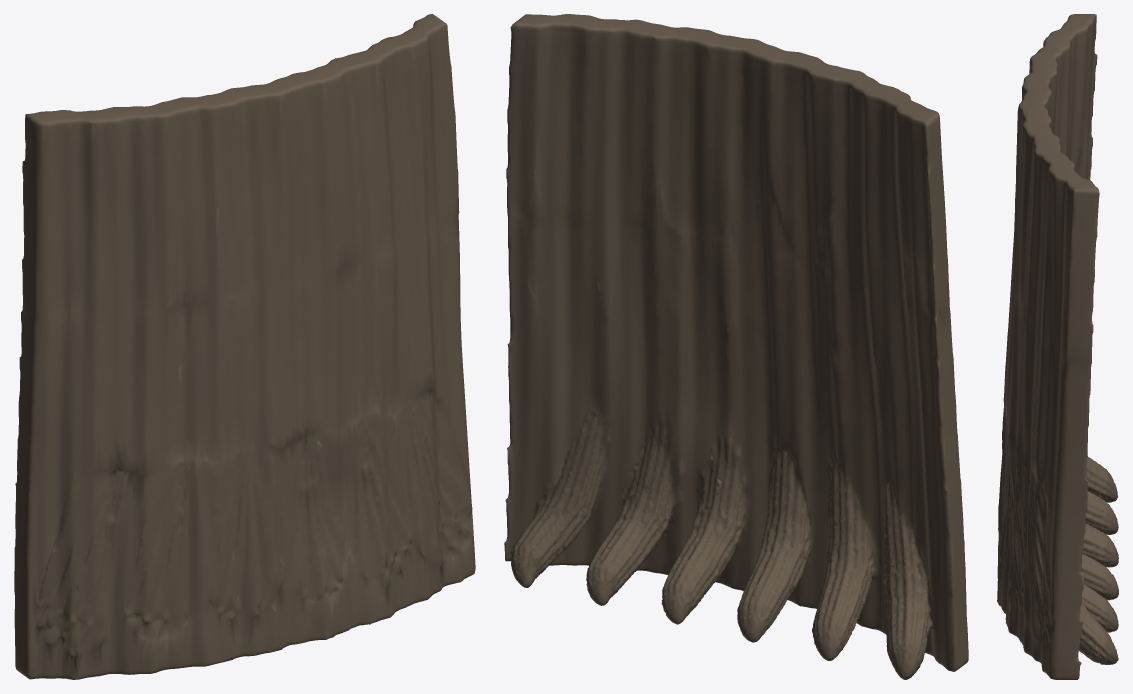
Rendered from WorldTree_BaseArc.fbx.
3 views of the same model, side by side, from view 1: azimuth 30°, elevation 25°; view 2: azimuth 150°, elevation 25°; view 3: azimuth 270°, elevation 25° (orthographic). The views are drawn at different scales.
Visible parts, largest first — view 1: WorldTree_BaseArc; view 2: WorldTree_BaseArc; view 3: WorldTree_BaseArc.
Part boxes in pixels (left/top/right/bottom): WorldTree_BaseArc: left=14, top=14, right=475, bottom=679; WorldTree_BaseArc: left=504, top=14, right=968, bottom=679; WorldTree_BaseArc: left=997, top=14, right=1118, bottom=679.
Bounding box in the file's own units: 30 × 35 × 8.
